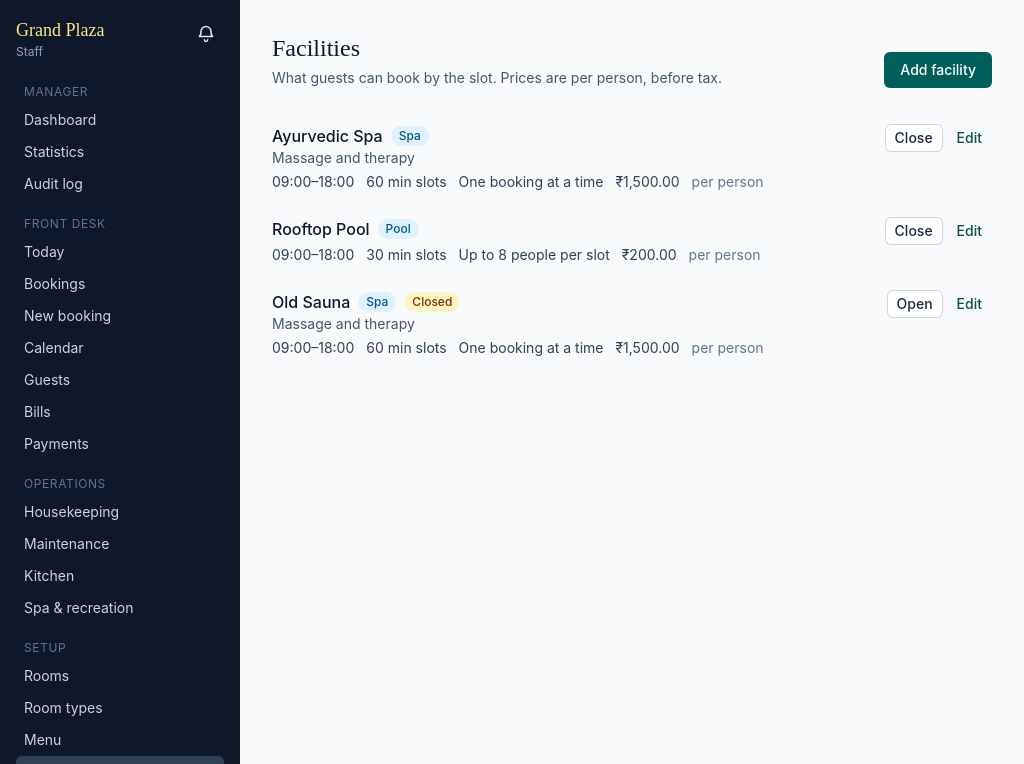
Test: editing a facility › shows why the hours cannot change while open bookings hold slots
Click the button with aria-label "Edit Ayurvedic Spa" at (969, 138), box [947, 124, 992, 152]
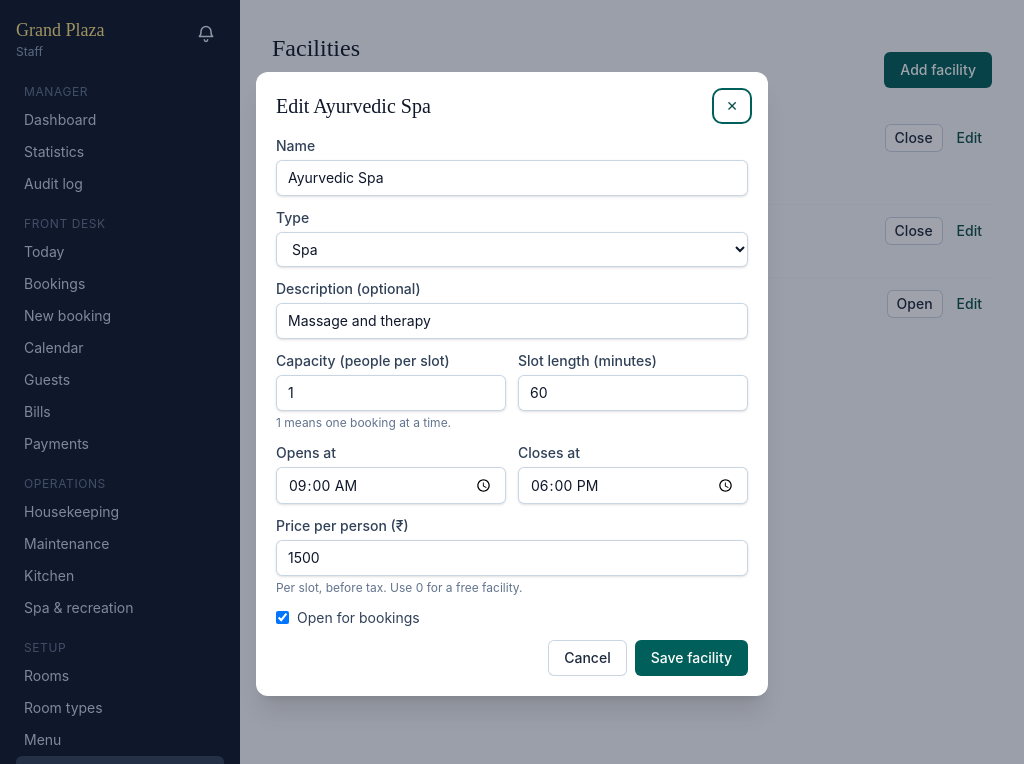
Replace the text in the time field labelled "Closes at" with "17:00" at (633, 486), box [518, 467, 748, 504]
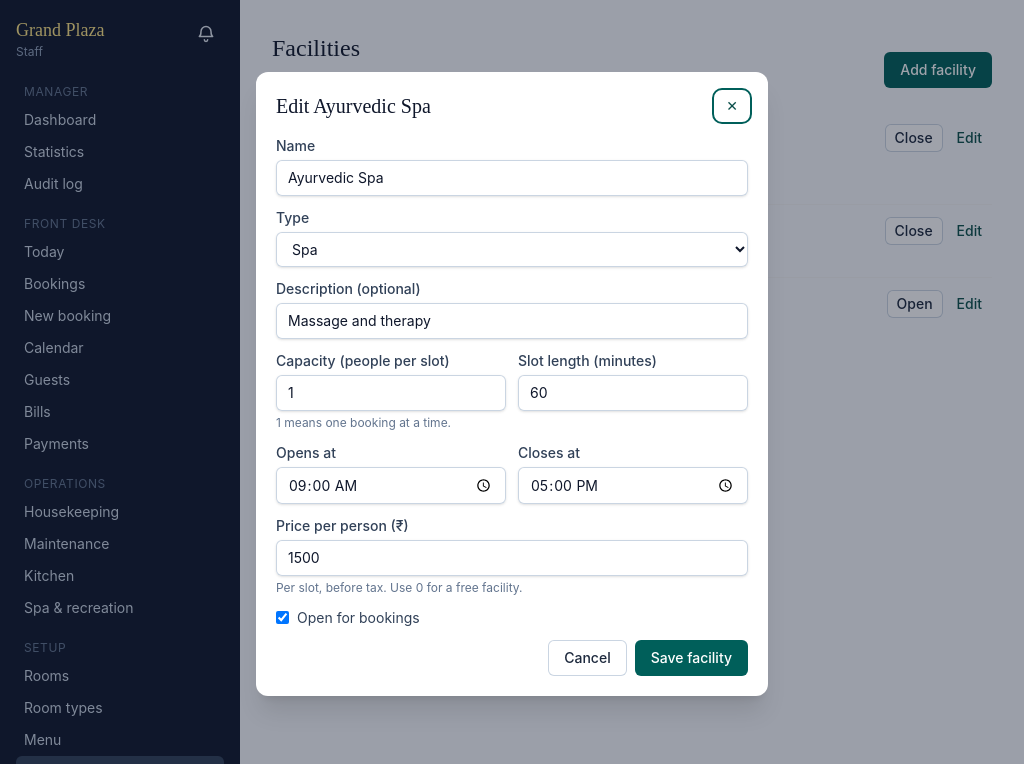
Click the button "Save facility" at (691, 658), box [635, 640, 748, 676]
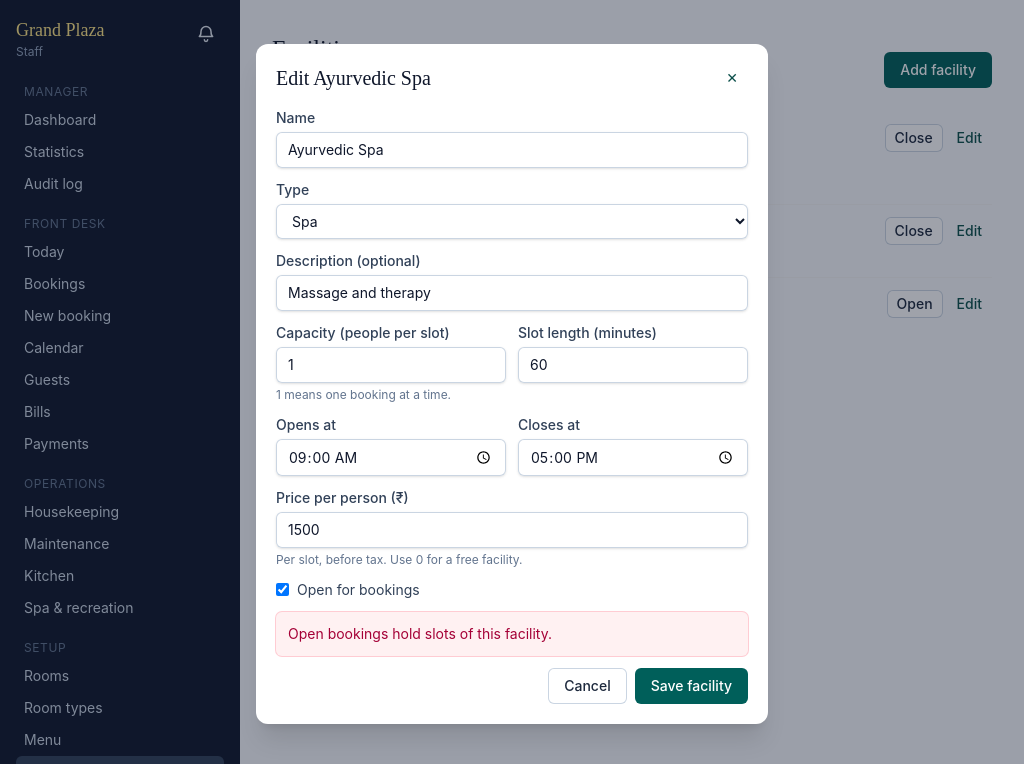
Check: the message shows "Open bookings hold slots", box [288, 625, 552, 642]
